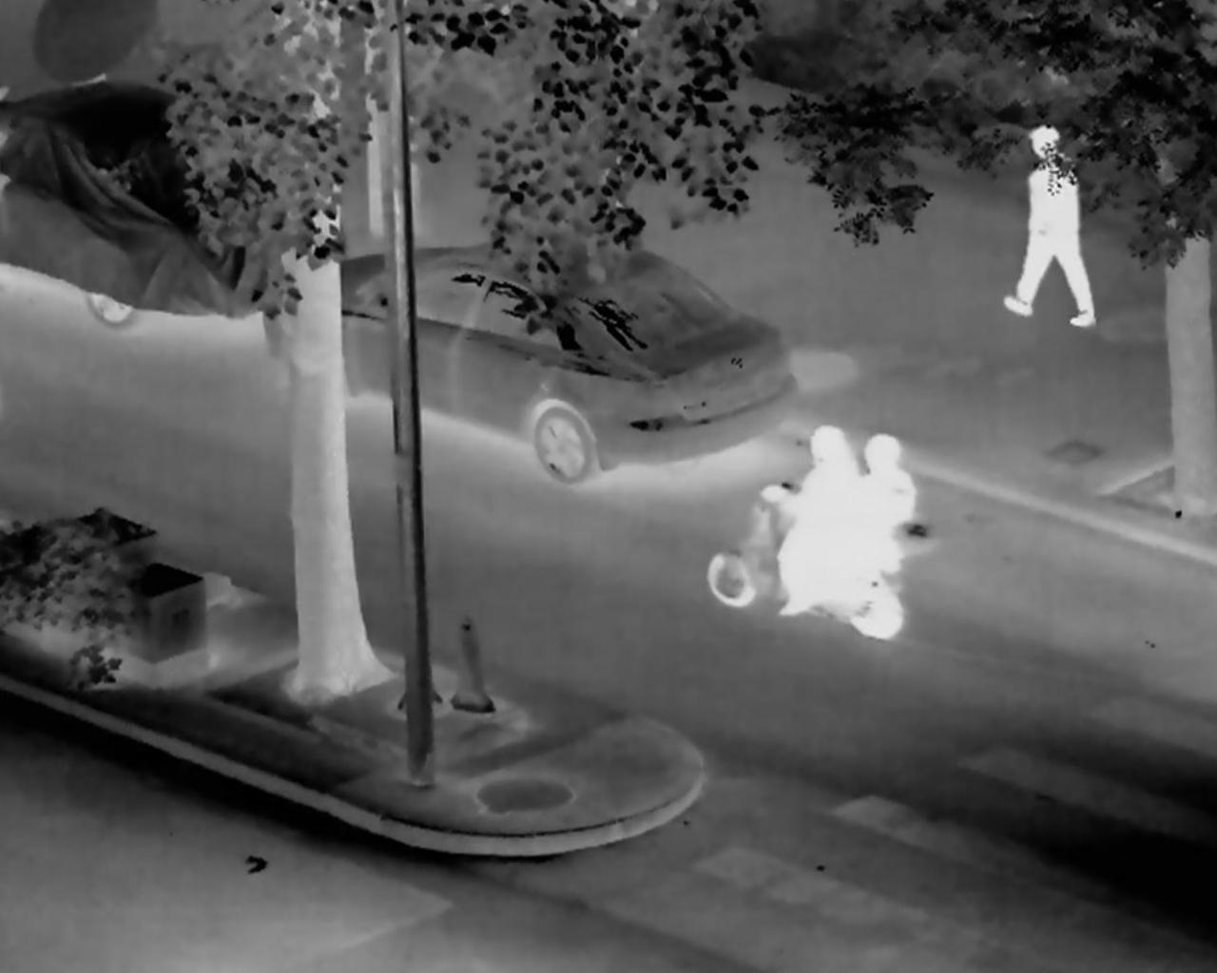person: (1001, 125, 1097, 328), (760, 424, 859, 618), (840, 435, 914, 604)
